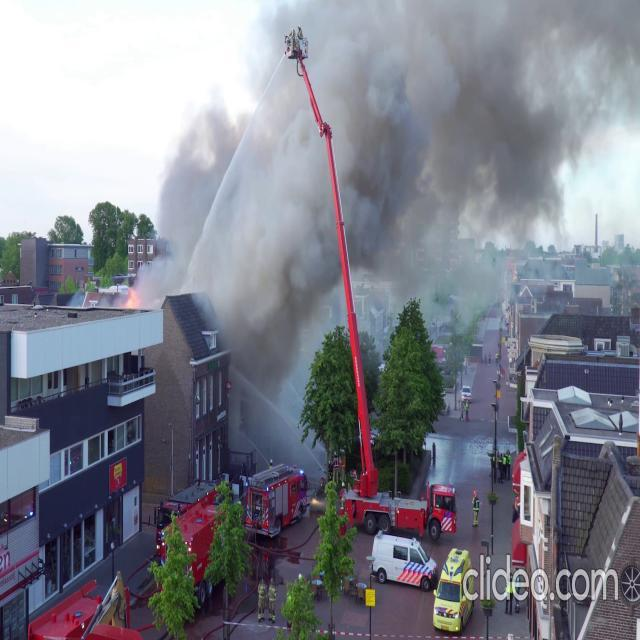Fire: (127, 282, 139, 311)
Smoke: (138, 1, 640, 342)
